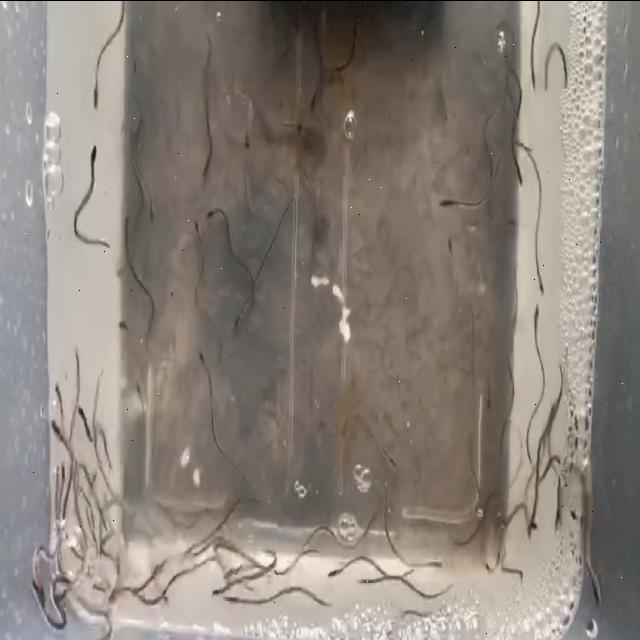inactive_glass_eel: (587, 560, 606, 607), (226, 298, 246, 334), (441, 224, 458, 263), (30, 574, 46, 612), (194, 340, 210, 378), (381, 436, 397, 474), (143, 183, 157, 226), (114, 314, 134, 342), (52, 374, 64, 419), (439, 191, 458, 219), (47, 416, 67, 442), (76, 391, 88, 434), (191, 218, 207, 250), (86, 135, 98, 177), (524, 54, 538, 90), (550, 492, 562, 534), (222, 586, 242, 610), (534, 263, 546, 301), (326, 562, 346, 584), (241, 124, 255, 154), (308, 82, 322, 112), (524, 504, 540, 530), (481, 371, 491, 412), (92, 59, 100, 110), (512, 156, 524, 188), (530, 294, 540, 332), (108, 580, 123, 604), (198, 156, 210, 186), (354, 572, 372, 592), (206, 198, 222, 220), (422, 551, 442, 568), (208, 582, 228, 598), (132, 378, 143, 404), (59, 464, 67, 489)
